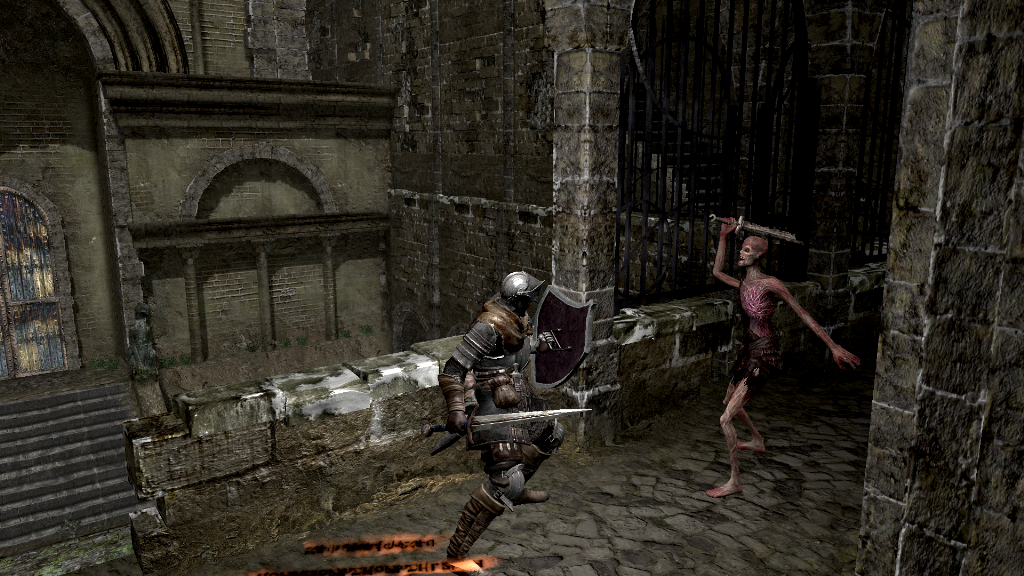hollow: (705, 215, 861, 498)
player: (421, 270, 598, 576)
